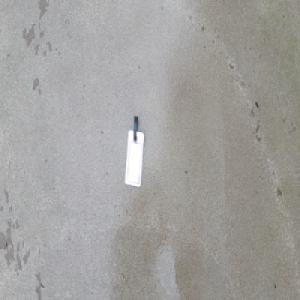LuggageTag: (123, 114, 145, 188)
